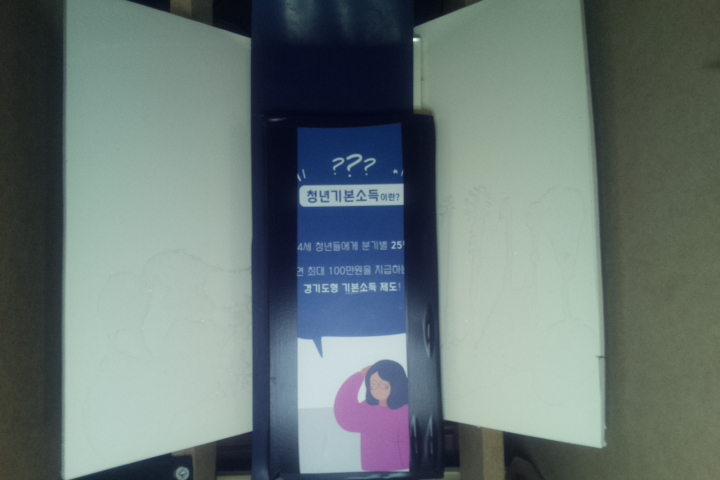book: (249, 107, 445, 480)
